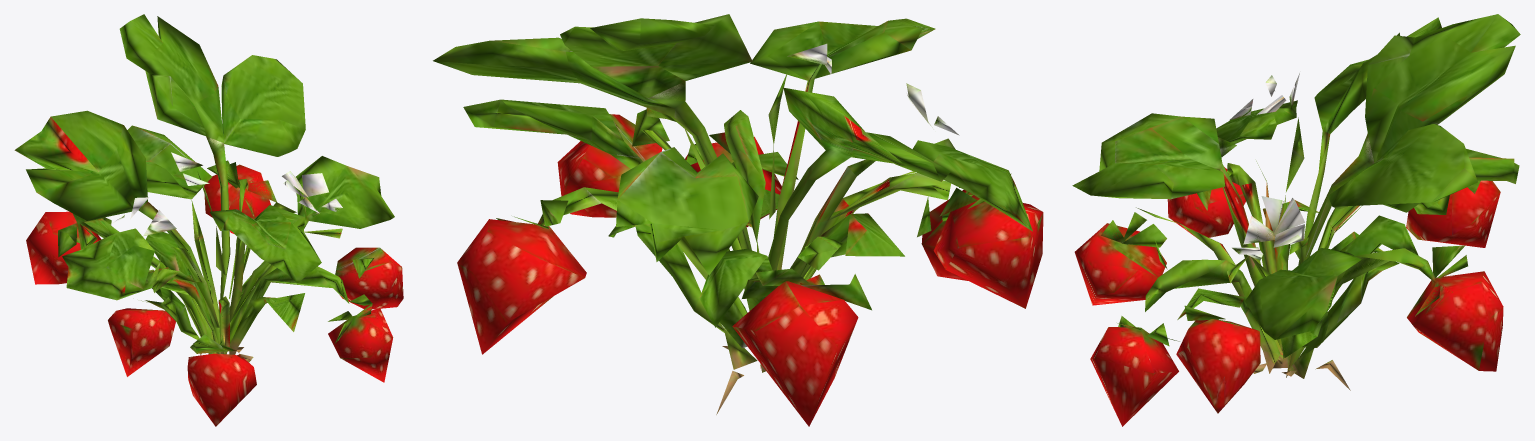
Rendered from crop_strawberry.glb.
The picture shows the model from 3 angles, left to right: view 1: azimuth 30°, elevation 25°; view 2: azimuth 150°, elevation 25°; view 3: azimuth 270°, elevation 25°; orthographic projection. The views are drawn at different scales.
Bounding box in the file's own units: 0.9938 × 0.8362 × 0.9181.
1 material, 1 textured.
